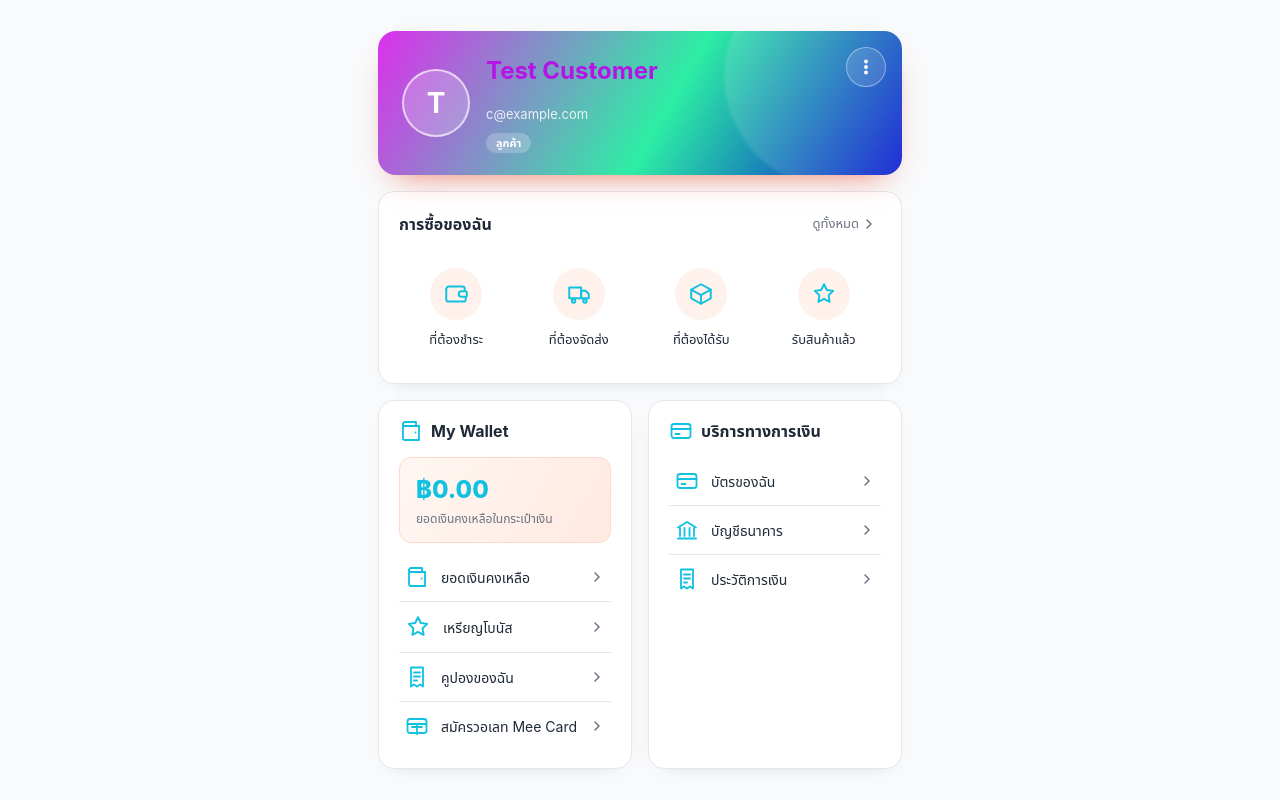
Account -> Order Modal -> KBZPay Popup integration › delivered parent orders show ตรวจสอบแล้ว at store level while unfinished orders keep their real status
Later steps or results of the test are not shown.
Click the button "ดูทั้งหมด" at {"x": 845, "y": 224}, box x1=808 y1=210 x2=881 y2=238
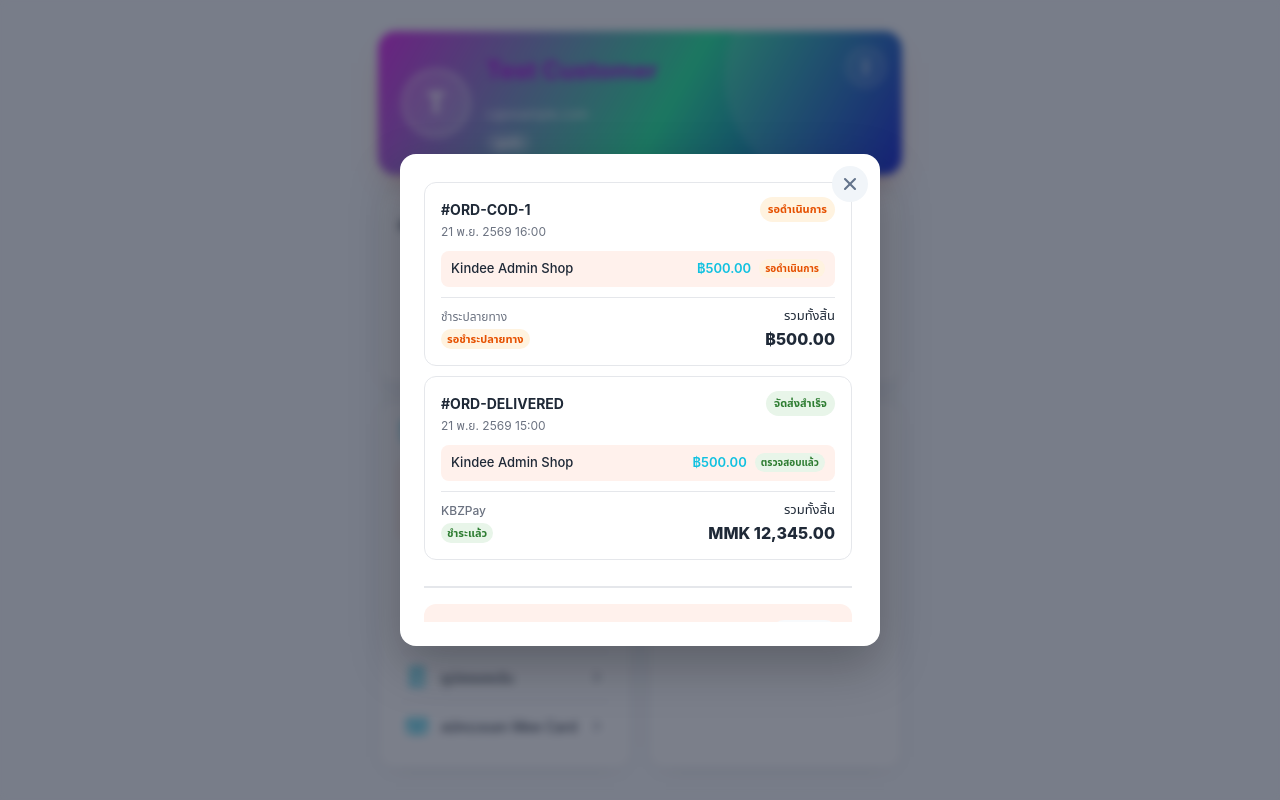
Now the text "ตรวจสอบแล้ว" is shown, box x1=755 y1=453 x2=825 y2=472
Now the 2nd text with class "modal-store-status" reads "รอดำเนินการ", box x1=765 y1=262 x2=819 y2=274
